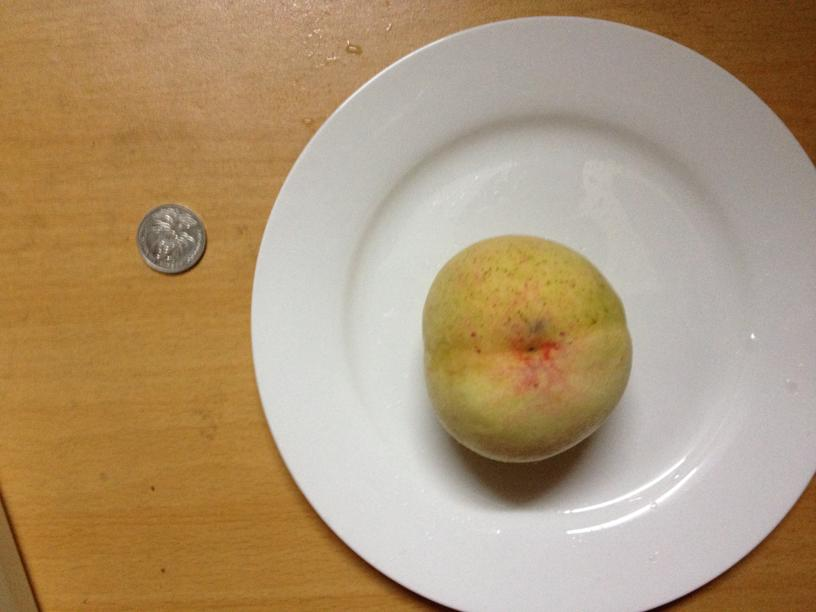coin: (133, 202, 209, 274)
peach: (425, 235, 631, 463)
